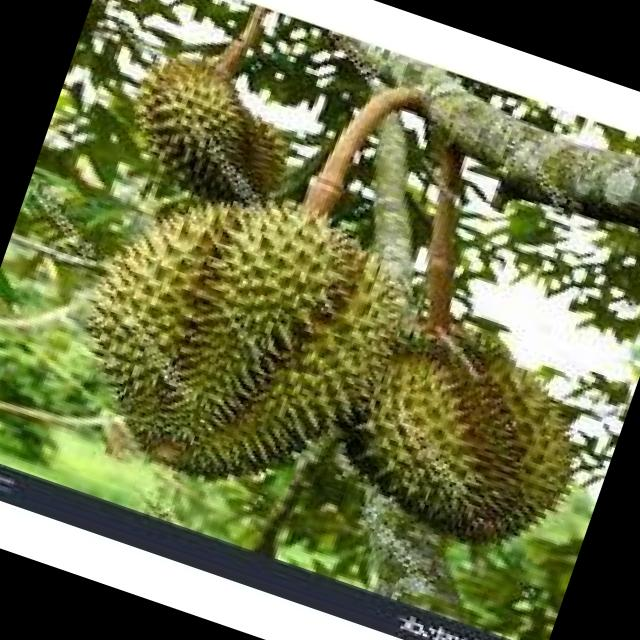fruit: (8, 102, 460, 556), (270, 258, 636, 601), (95, 26, 305, 233)
